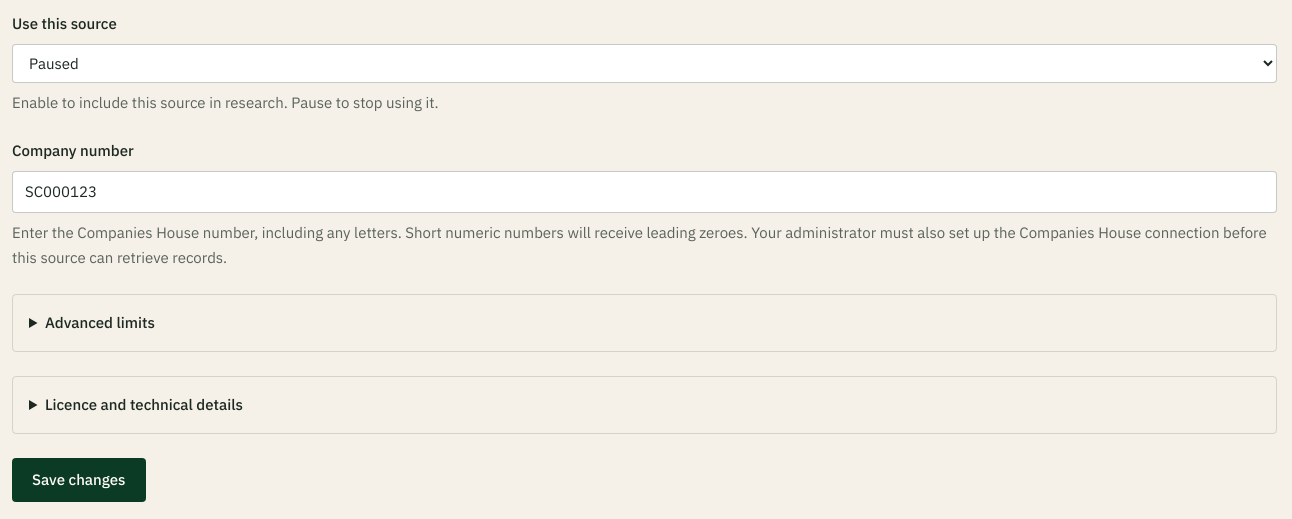
it: SourceConfiguration › preserves an existing paused status and all limits when saving
Expected: the dropdown labelled "Use this source" shows "Paused", [12,44,1277,83]
Expected: the element named "Daily AI spending limit (£)" holds "20.39", [12,294,1277,352]
Click the button "Save changes" at (79, 480), box [12,458,146,502]
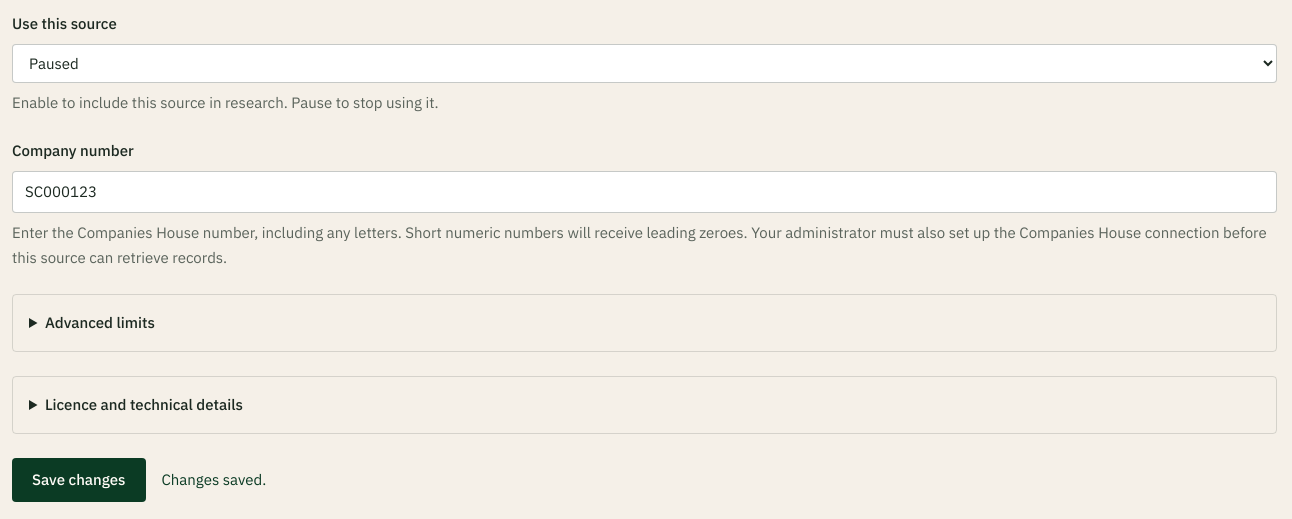
Expected: the message reads "Changes saved.", [162,470,266,489]
